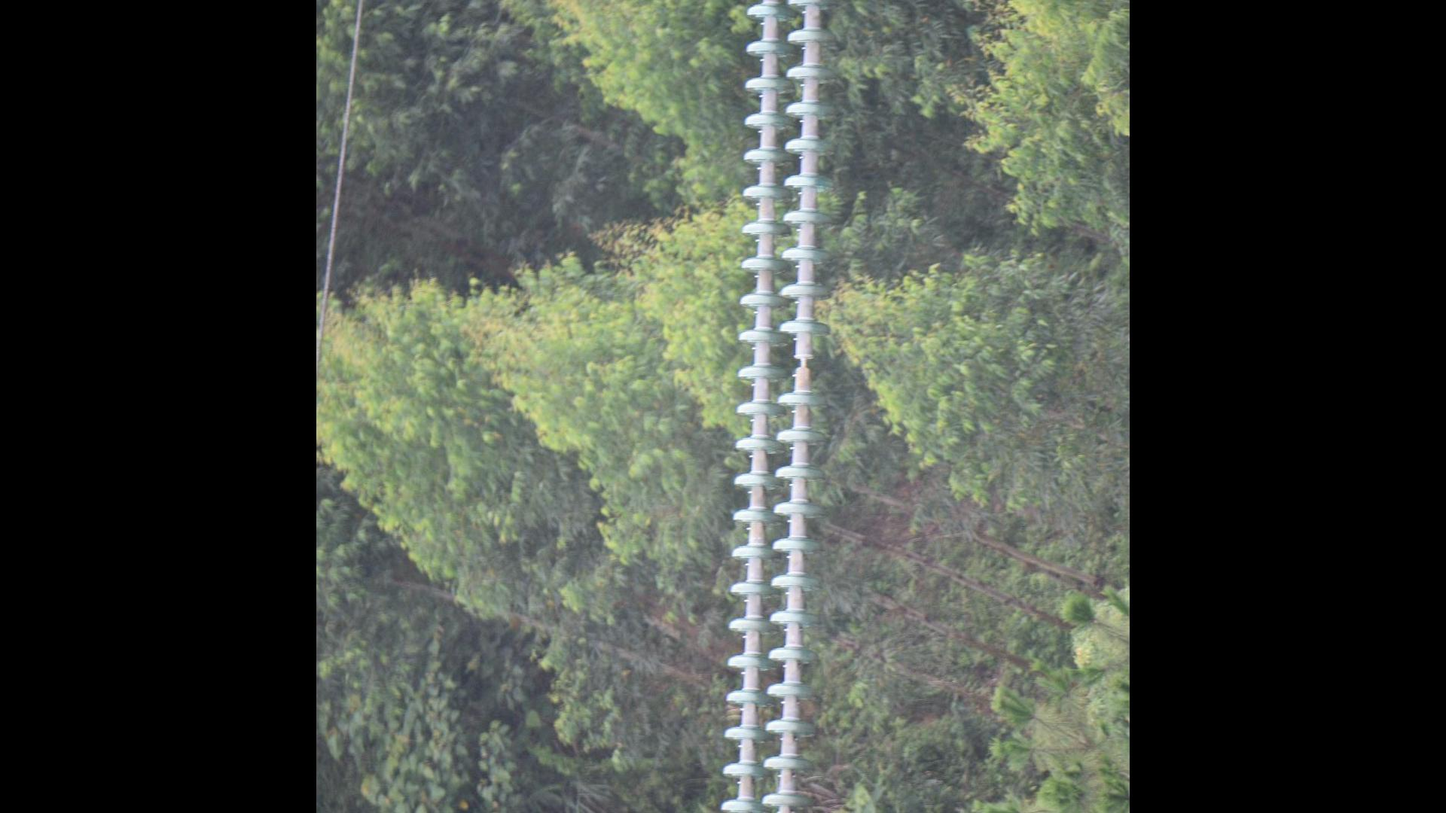insulator: (712, 1, 841, 813)
insulator_stringdrop: (775, 316, 834, 412)
